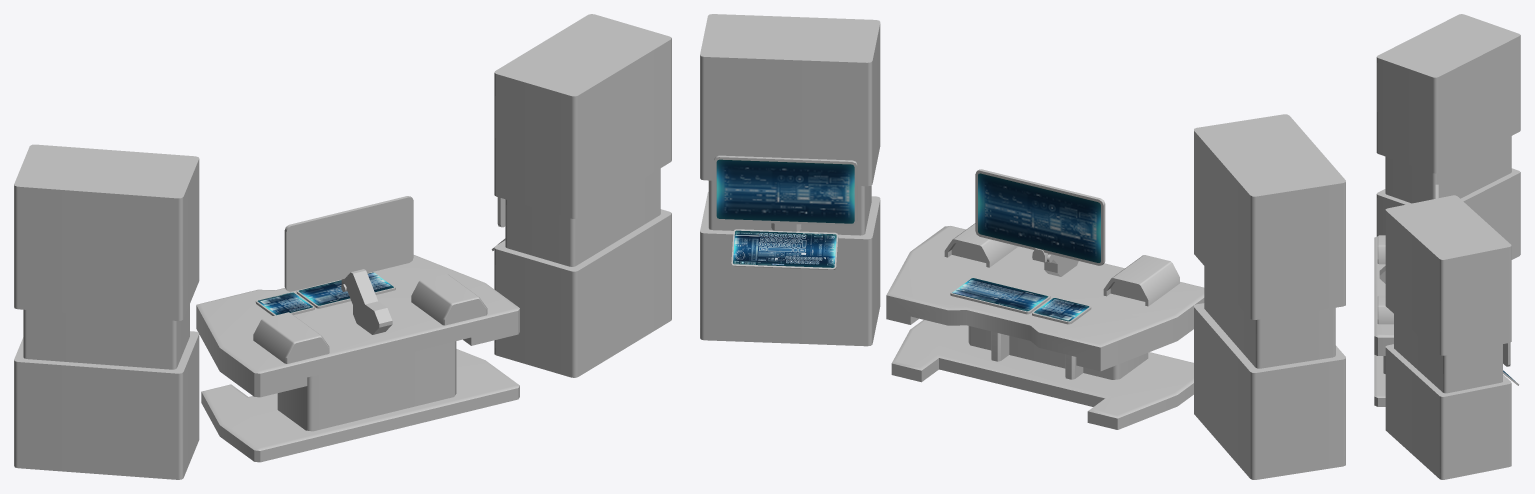
File: ship_navigation.fbx
3 views of the same model, side by side, from view 1: azimuth 30°, elevation 25°; view 2: azimuth 150°, elevation 25°; view 3: azimuth 270°, elevation 25° (orthographic). The views are drawn at different scales.
Visible parts, largest first — view 1: ship_navigation_stand, ship_navigation_shelfLED, ship_navigation_control; view 2: ship_navigation_shelfLED, ship_navigation_control, ship_navigation_stand; view 3: ship_navigation_shelfLED, ship_navigation_stand, ship_navigation_control.
Boxes of the visible parts, box(x1,y1,x2,y2) form: ship_navigation_stand: box(14, 144, 199, 479); ship_navigation_shelfLED: box(491, 14, 671, 377); ship_navigation_control: box(196, 196, 519, 462); ship_navigation_shelfLED: box(700, 14, 880, 346); ship_navigation_control: box(886, 169, 1204, 429); ship_navigation_stand: box(1194, 114, 1345, 479); ship_navigation_shelfLED: box(1385, 195, 1518, 479); ship_navigation_stand: box(1376, 14, 1520, 259); ship_navigation_control: box(1374, 184, 1438, 406).
Size of the model in its own units: 403 by 168 by 101.
